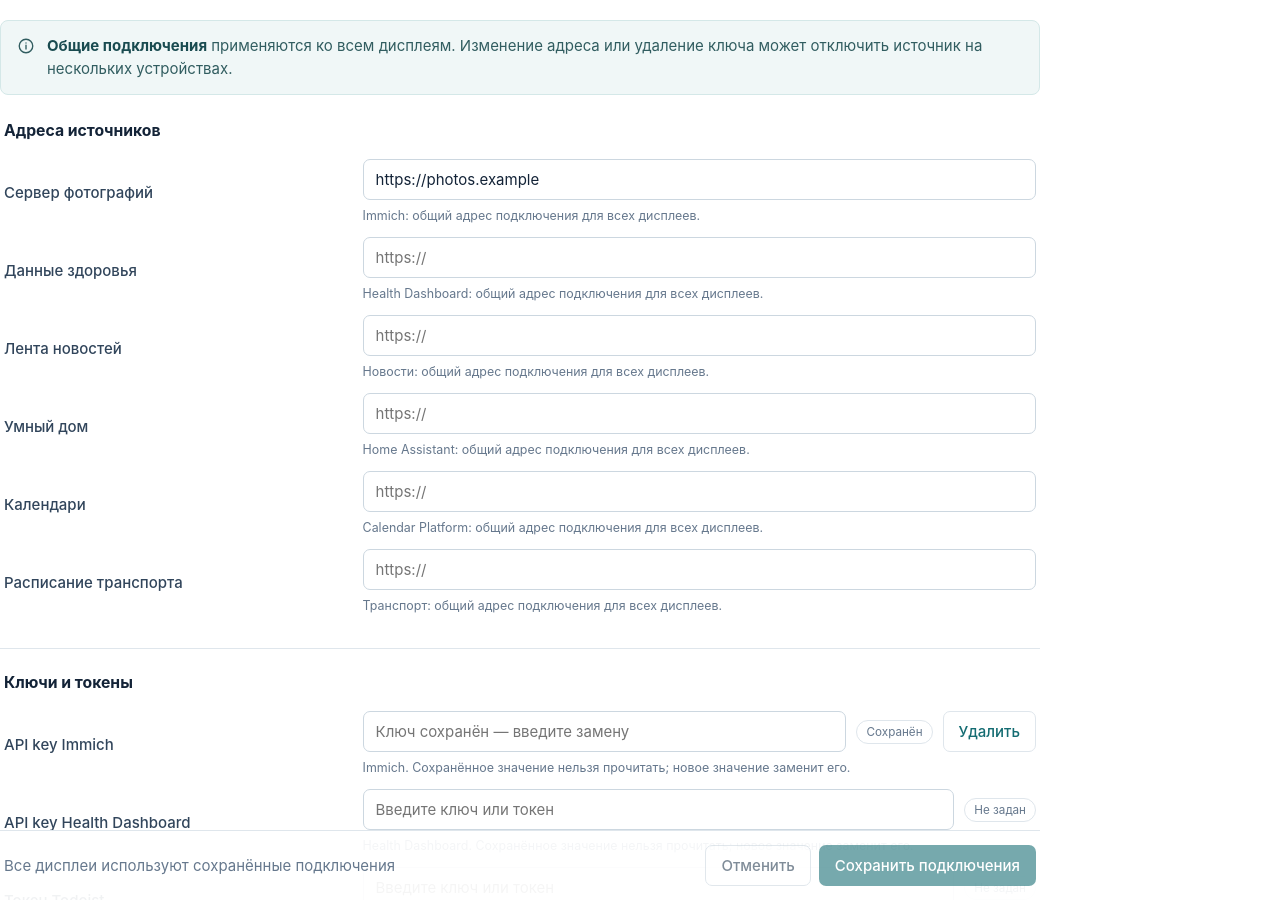
shared connections › closes the disconnect confirmation on Escape and restores focus
The image size is (1280, 900).
Step 1. Clear the field named "Сервер фотографий" → (699, 180), box [362,159,1036,200]
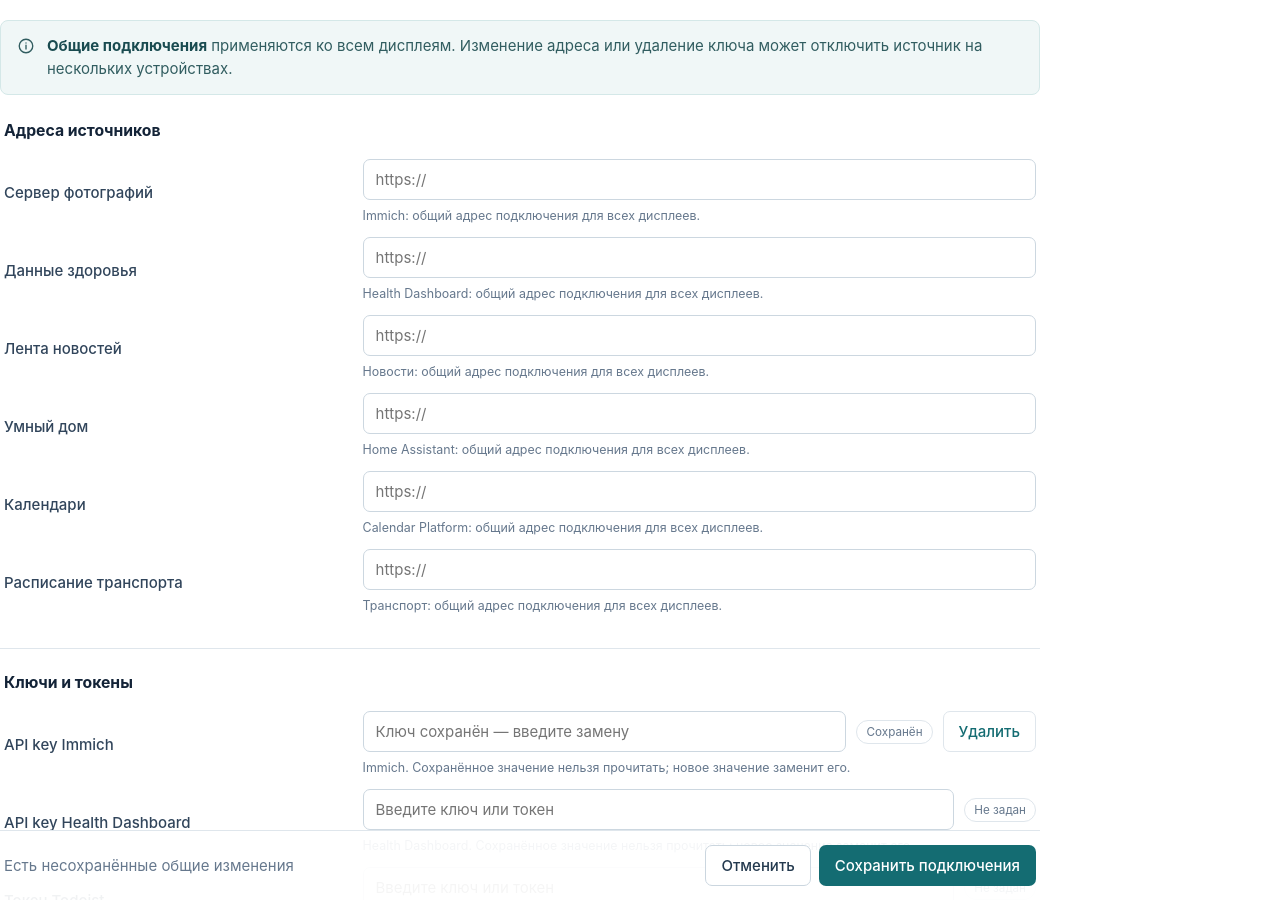
Step 2. Click the button "Сохранить подключения" → (927, 866), box [819,845,1036,886]
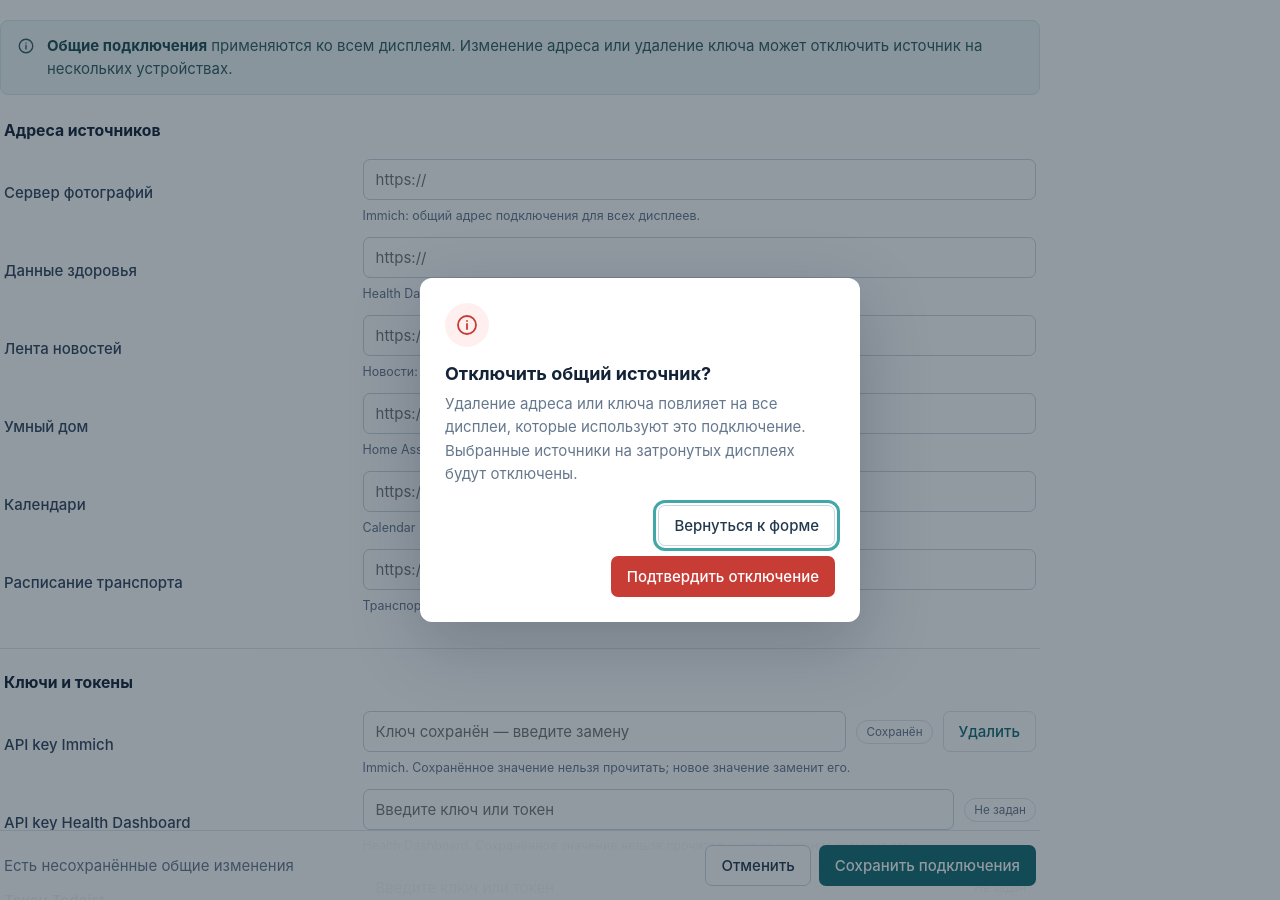
Now the dialog is shown, box [420,278,860,622]
Step 3. Press Escape
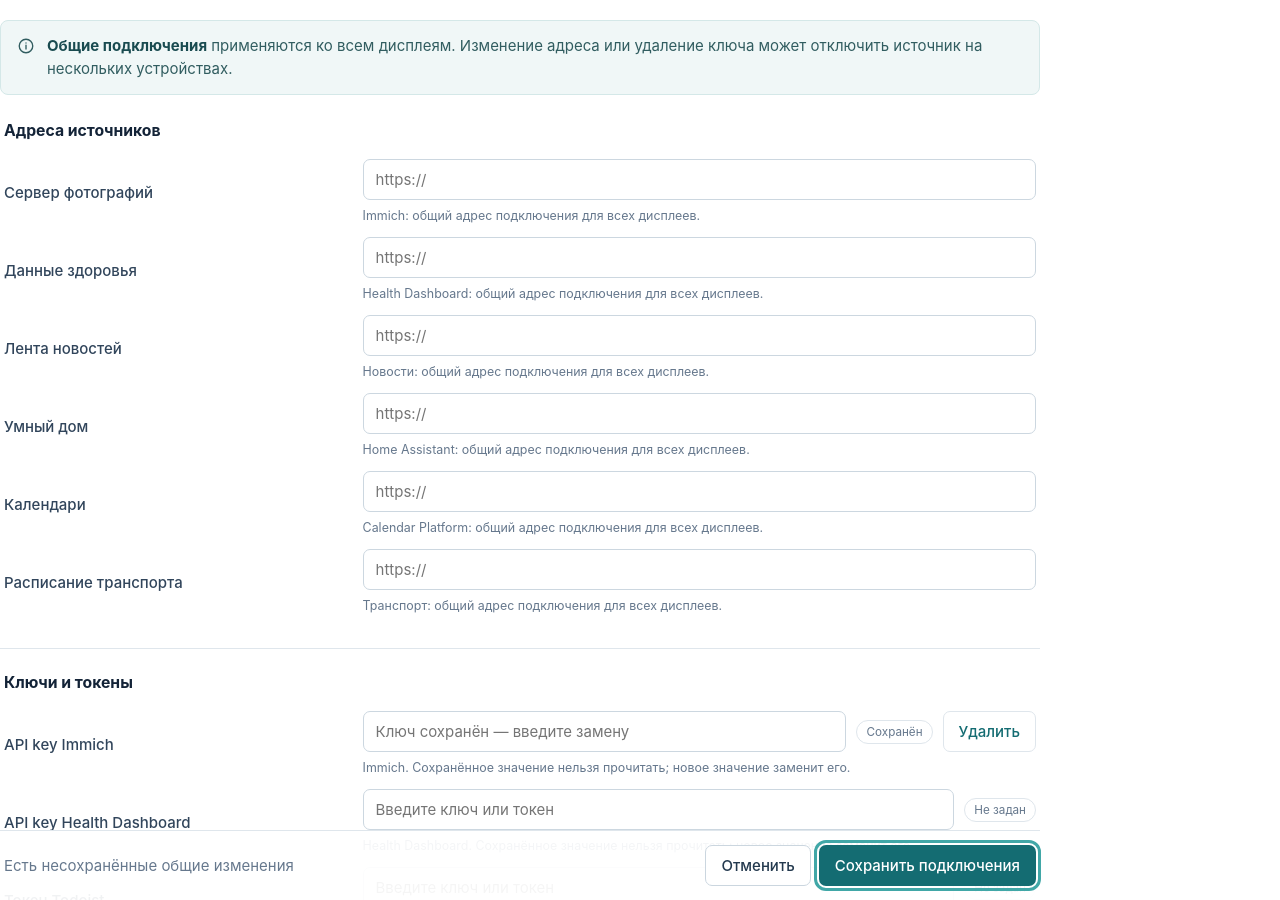
Now the dialog is gone
